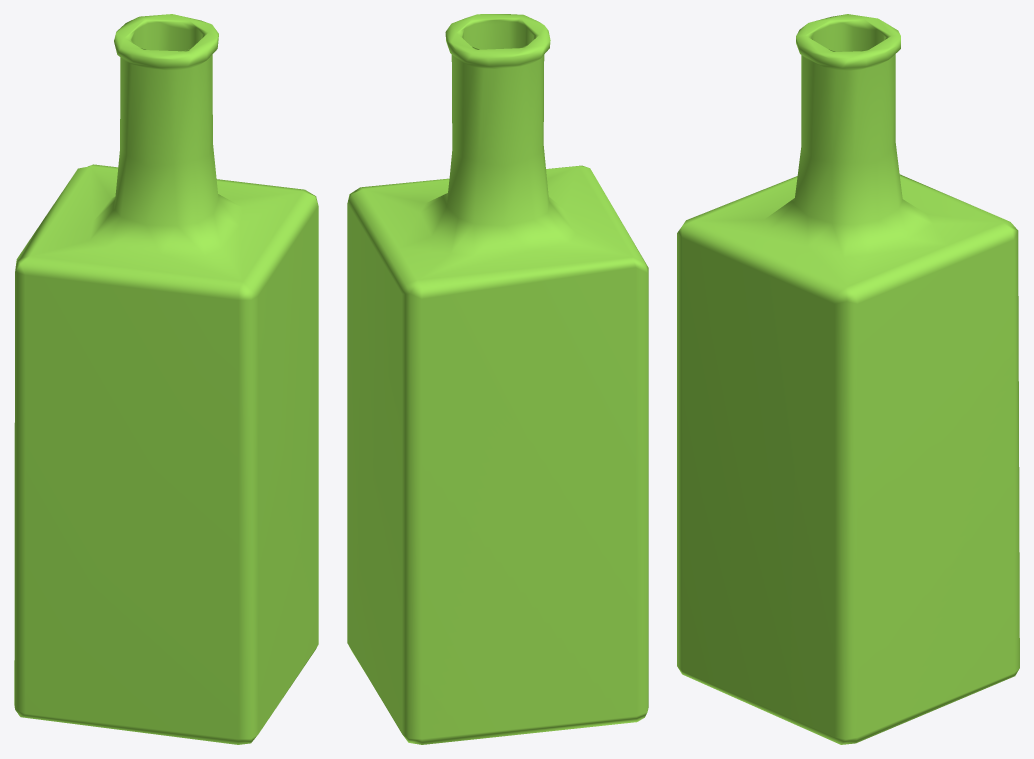
The model's file is 725db31f-36be-4f65-a79e-afcbdb460027.glb.
The picture shows the model from 3 angles, left to right: view 1: azimuth 30°, elevation 25°; view 2: azimuth 150°, elevation 25°; view 3: azimuth 270°, elevation 25°; orthographic projection.
Visible parts, largest first — view 1: GlassBottle.003; view 2: GlassBottle.003; view 3: GlassBottle.003.
Part boxes in pixels (bbox=[...]): GlassBottle.003: bbox=[14, 14, 318, 744]; GlassBottle.003: bbox=[347, 14, 648, 744]; GlassBottle.003: bbox=[677, 14, 1019, 744].
Bounding box in the file's own units: 0.1508 × 0.3116 × 0.1508.
1 material, 1 textured.
